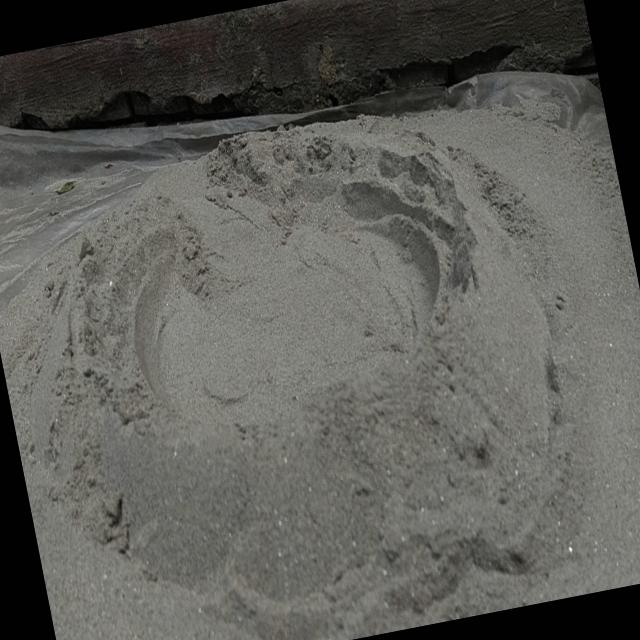C40: (151, 156, 470, 443)
